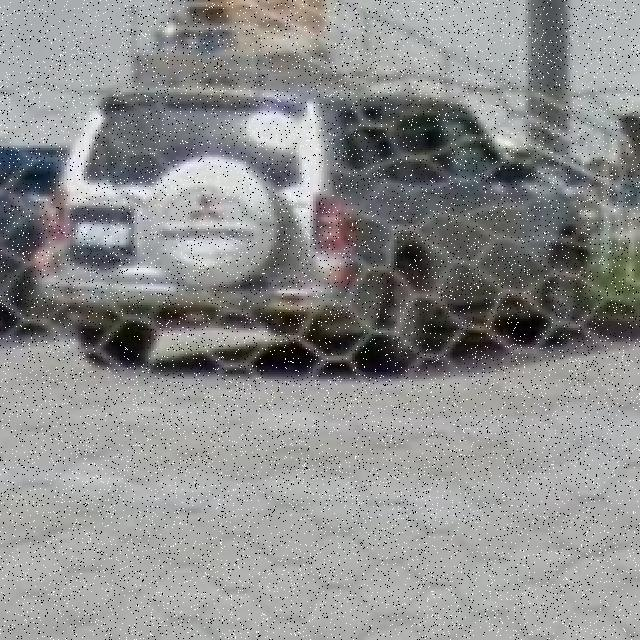cars: (49, 65, 607, 376)
